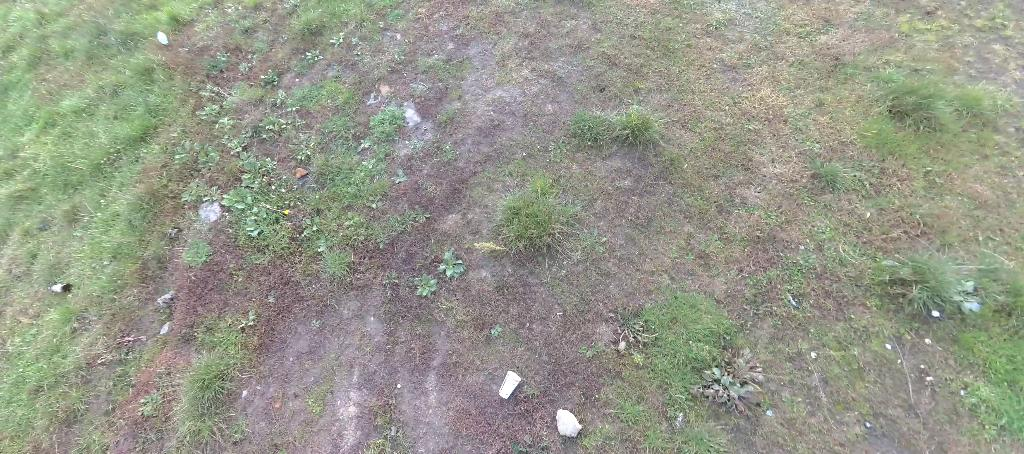garbage: (493, 372, 525, 402), (556, 407, 583, 442), (557, 409, 583, 438), (497, 370, 521, 401), (46, 283, 77, 297), (45, 284, 76, 294), (157, 30, 169, 47)
